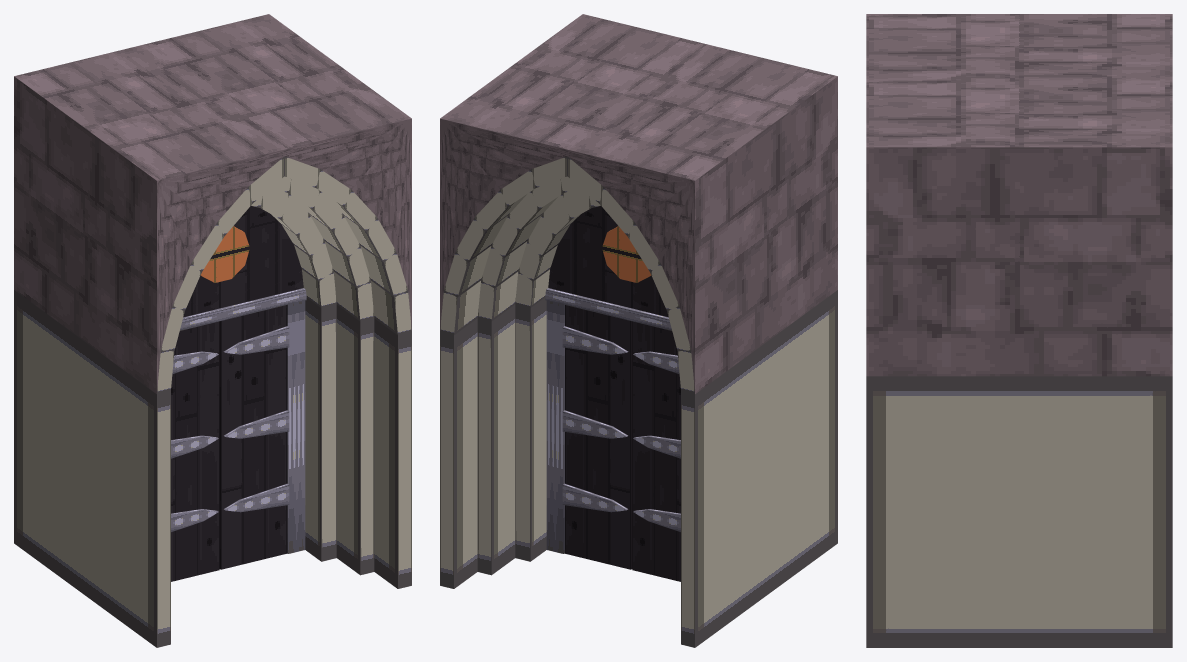
The model's file is door_boss.glb.
The picture shows the model from 3 angles, left to right: view 1: azimuth 30°, elevation 25°; view 2: azimuth 150°, elevation 25°; view 3: azimuth 270°, elevation 25°; orthographic projection. The views are drawn at different scales.
Parts seen in each view (by area): view 1: portal, leaf_a, leaf_b; view 2: portal, leaf_a, leaf_b; view 3: portal.
Boxes of the visible parts, x1,y1,x2,y2 form: portal: [14, 14, 411, 647]; leaf_a: [219, 305, 289, 569]; leaf_b: [171, 321, 219, 581]; portal: [440, 14, 837, 647]; leaf_a: [562, 305, 632, 569]; leaf_b: [632, 321, 680, 581]; portal: [866, 14, 1172, 647].
Bounding box in the file's own units: 2 × 3.5 × 1.94.
Materials: 1 (1 with a texture image).
